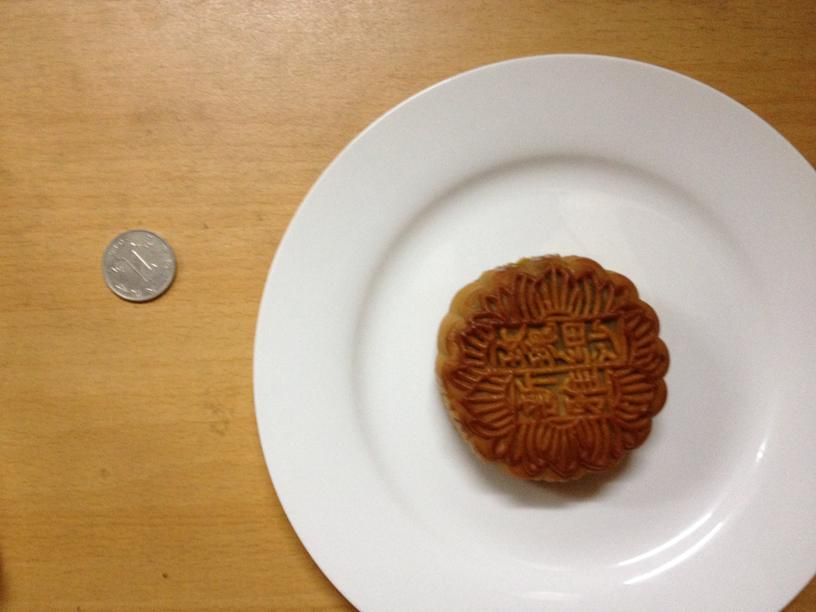coin: (100, 232, 176, 301)
mooncake: (440, 254, 669, 483)
